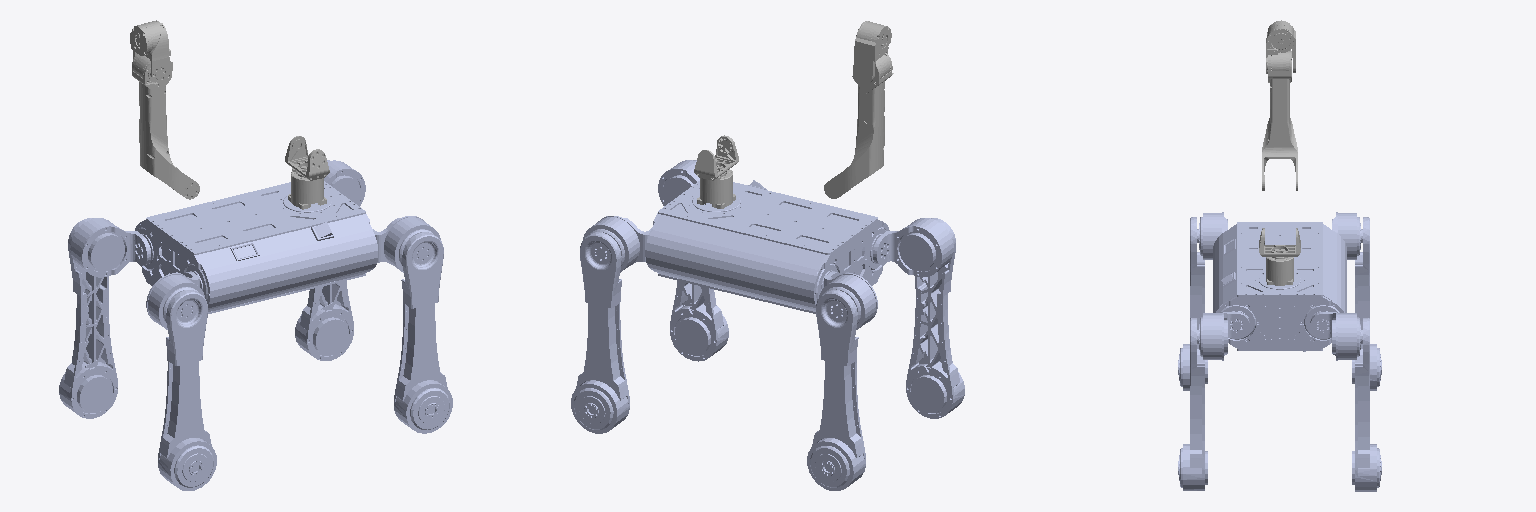
--- What the picture shows (computed from the rendered views, not written in the file) ---
Views: 3 orthographic renders of the robot side by side, from view 1: azimuth 30°, elevation 25°; view 2: azimuth 150°, elevation 25°; view 3: azimuth 270°, elevation 25°.
Robot: lion — 23 links, 22 joints (15 revolute, 7 fixed); root link base; default pose: all joints at 0 but 5 set to mid-range because 0 is outside their limits (RF_KFE = -1.75, LF_KFE = -1.75, RH_KFE = -1.75, LH_KFE = -1.75, joint3 = 1.59).
Visible links, largest first — view 1: base, RF_thigh, RH_thigh, LH_thigh, elbow_link, LF_thigh, LH_hip, lower_arm_link, RF_hip, RH_hip, shoulder_link, LF_hip (+1 smaller); view 2: base, LF_thigh, LH_thigh, RH_thigh, elbow_link, RF_thigh, RH_hip, lower_arm_link, LF_hip, LH_hip, shoulder_link, RF_hip (+1 smaller); view 3: base, LF_thigh, RF_thigh, elbow_link, RH_thigh, LH_thigh, RF_hip, LF_hip, lower_arm_link, RH_hip, LH_hip, arm_base_link (+1 smaller).
Link boxes in pixels (box(x1,y1,x2,y2)): base: box(135, 181, 377, 313); RF_thigh: box(394, 232, 452, 433); RH_thigh: box(158, 290, 216, 490); LH_thigh: box(59, 218, 117, 418); elbow_link: box(132, 54, 199, 199); LF_thigh: box(295, 160, 353, 360); LH_hip: box(70, 218, 150, 277); lower_arm_link: box(130, 20, 172, 82); RF_hip: box(373, 216, 440, 272); RH_hip: box(146, 271, 204, 329); shoulder_link: box(285, 136, 329, 180); LF_hip: box(324, 160, 365, 206); base: box(645, 180, 889, 313); LF_thigh: box(571, 232, 629, 433); LH_thigh: box(807, 290, 865, 490); RH_thigh: box(906, 218, 964, 418); elbow_link: box(824, 53, 893, 198); RF_thigh: box(670, 160, 728, 361); RH_hip: box(873, 218, 953, 277); lower_arm_link: box(854, 21, 891, 84); LF_hip: box(583, 216, 651, 272); LH_hip: box(819, 271, 877, 329); shoulder_link: box(694, 135, 738, 180); RF_hip: box(658, 160, 699, 205); base: box(1213, 222, 1346, 351); LF_thigh: box(1352, 318, 1381, 491); RF_thigh: box(1178, 318, 1207, 490); elbow_link: box(1262, 50, 1297, 190); RH_thigh: box(1178, 217, 1207, 390); LH_thigh: box(1352, 217, 1381, 390); RF_hip: box(1198, 312, 1249, 360); LF_hip: box(1310, 312, 1361, 360); lower_arm_link: box(1266, 20, 1295, 73); RH_hip: box(1198, 212, 1227, 259); LH_hip: box(1332, 212, 1361, 259); arm_base_link: box(1266, 257, 1293, 285).
Bounding box of the posed robot: 0.593 × 0.424 × 0.8449 m (x, y, z).
13 mesh visuals loaded from 10 distinct referenced files (7 binary STL); not drawn: 9 (reference not matched to a file when rendering).

URDF robot description (lion):
<?xml version="1.0" ?>
<!-- =================================================================================== -->
<!-- |    This document was autogenerated by xacro from robot.xacro                    | -->
<!-- |    EDITING THIS FILE BY HAND IS NOT RECOMMENDED                                 | -->
<!-- =================================================================================== -->
<robot name="lion">
  <!-- <xacro:arg name="robot_type" default="lion"/> -->
  <!-- ros_control plugin -->
  <gazebo>
    <plugin filename="liblegged_hw_sim.so" name="gazebo_ros_control">
      <robotNamespace>/</robotNamespace>
      <robotParam>legged_robot_description</robotParam>
      <robotSimType>legged_gazebo/QuadHWSim</robotSimType>
      <!-- <controlPeriod>0.002</controlPeriod> -->
    </plugin>
  </gazebo>
  <gazebo>
    <plugin filename="libgazebo_ros_p3d.so" name="p3d_base_controller">
      <alwaysOn>true</alwaysOn>
      <updateRate>1000.0</updateRate>
      <bodyName>base</bodyName>
      <topicName>ground_truth/state</topicName>
      <gaussianNoise>0</gaussianNoise>
      <frameName>world</frameName>
      <xyzOffsets>0 0 0</xyzOffsets>
      <rpyOffsets>0 0 0</rpyOffsets>
    </plugin>
  </gazebo>
  <gazebo reference="base">
    <maxVel>100.</maxVel>
    <kp>10000.</kp>
    <kd>0.</kd>
  </gazebo>
  <gazebo reference="stick_link">
    <mu1>0.2</mu1>
    <mu2>0.2</mu2>
    <material>Gazebo/White</material>
  </gazebo>
  <!-- LF leg -->
  <gazebo reference="LF_hip">
    <mu1>0.2</mu1>
    <mu2>0.2</mu2>
    <material>Gazebo/DarkGrey</material>
  </gazebo>
  <gazebo reference="LF_thigh">
    <mu1>0.2</mu1>
    <mu2>0.2</mu2>
    <self_collide>1</self_collide>
    <material>Gazebo/DarkGrey</material>
    <kp value="1000000.0"/>
    <kd value="1.0"/>
  </gazebo>
  <gazebo reference="LF_calf">
    <mu1>0.2</mu1>
    <mu2>0.2</mu2>
    <self_collide>1</self_collide>
  </gazebo>
  <gazebo reference="LF_FOOT">
    <mu1>0.9</mu1>
    <mu2>0.9</mu2>
    <self_collide>1</self_collide>
    <material>Gazebo/DarkGrey</material>
    <kp value="1000000.0"/>
    <kd value="100.0"/>
  </gazebo>
  <!-- RF leg -->
  <gazebo reference="RF_hip">
    <mu1>0.2</mu1>
    <mu2>0.2</mu2>
    <material>Gazebo/DarkGrey</material>
  </gazebo>
  <gazebo reference="RF_thigh">
    <mu1>0.2</mu1>
    <mu2>0.2</mu2>
    <self_collide>1</self_collide>
    <material>Gazebo/DarkGrey</material>
    <kp value="1000000.0"/>
    <kd value="1.0"/>
  </gazebo>
  <gazebo reference="RF_calf">
    <mu1>0.2</mu1>
    <mu2>0.2</mu2>
    <self_collide>1</self_collide>
  </gazebo>
  <gazebo reference="RF_FOOT">
    <mu1>0.9</mu1>
    <mu2>0.9</mu2>
    <self_collide>1</self_collide>
    <material>Gazebo/DarkGrey</material>
    <kp value="1000000.0"/>
    <kd value="1.0"/>
  </gazebo>
  <!-- LH leg -->
  <gazebo reference="LH_hip">
    <mu1>0.2</mu1>
    <mu2>0.2</mu2>
    <material>Gazebo/DarkGrey</material>
  </gazebo>
  <gazebo reference="LH_thigh">
    <mu1>0.2</mu1>
    <mu2>0.2</mu2>
    <self_collide>1</self_collide>
    <material>Gazebo/DarkGrey</material>
    <kp value="1000000.0"/>
    <kd value="1.0"/>
  </gazebo>
  <gazebo reference="LH_calf">
    <mu1>0.2</mu1>
    <mu2>0.2</mu2>
    <self_collide>1</self_collide>
  </gazebo>
  <gazebo reference="LH_FOOT">
    <mu1>0.9</mu1>
    <mu2>0.9</mu2>
    <self_collide>1</self_collide>
    <material>Gazebo/DarkGrey</material>
    <kp value="1000000.0"/>
    <kd value="1.0"/>
  </gazebo>
  <!-- RH leg -->
  <gazebo reference="RH_hip">
    <mu1>0.2</mu1>
    <mu2>0.2</mu2>
    <material>Gazebo/DarkGrey</material>
  </gazebo>
  <gazebo reference="RH_thigh">
    <mu1>0.2</mu1>
    <mu2>0.2</mu2>
    <self_collide>1</self_collide>
    <material>Gazebo/DarkGrey</material>
    <kp value="1000000.0"/>
    <kd value="1.0"/>
  </gazebo>
  <gazebo reference="RH_calf">
    <mu1>0.2</mu1>
    <mu2>0.2</mu2>
    <self_collide>1</self_collide>
  </gazebo>
  <gazebo reference="RH_FOOT">
    <mu1>0.9</mu1>
    <mu2>0.9</mu2>
    <self_collide>1</self_collide>
    <material>Gazebo/DarkGrey</material>
    <kp value="1000000.0"/>
    <kd value="1.0"/>
  </gazebo>
  <!-- <xacro:include filename="$(find lion_arx3_description)/urdf/$(arg robot_type)/const.xacro"/> -->
  <!--Quadruped
  Model*******************************************************************************************-->
  <link name="base">
    <inertial>
      <origin rpy="0 0 0" xyz="-0.000638750070817345 -0.00672058356158241 -0.00556735378698432"/>
      <mass value="8.286"/>
      <inertia ixx="0.056529" ixy="-0.001107" ixz="-3.045E-05" iyy="0.14156" iyz="-0.0011531" izz="0.17939"/>
    </inertial>
    <visual>
      <origin rpy="0 0 0" xyz="0 0 0"/>
      <geometry>
        <mesh filename="package://lion_arx3_description/meshes/base_link.STL"/>
      </geometry>
      <material name="">
        <color rgba="0.792156862745098 0.819607843137255 0.933333333333333 1"/>
      </material>
    </visual>
    <collision>
      <origin rpy="0 0 0" xyz="0 0 0"/>
      <geometry>
        <box size="0.35 0.24 0.14"/>
      </geometry>
    </collision>
  </link>
  <link name="RF_hip">
    <inertial>
      <origin rpy="0 0 0" xyz="-0.0050797 -0.047183 4.172E-05"/>
      <mass value="1.095"/>
      <inertia ixx="0.0010035" ixy="-0.00021789" ixz="1.433E-06" iyy="0.0014762" iyz="1.005E-06" izz="0.0012507"/>
    </inertial>
    <visual>
      <origin rpy="0 0 0" xyz="0 0 0"/>
      <geometry>
        <mesh filename="package://lion_arx3_description/meshes/hip_Link.STL"/>
      </geometry>
      <material name="">
        <color rgba="0.79216 0.81961 0.93333 1"/>
      </material>
    </visual>
    <collision>
      <origin rpy="1.5707963267948966 0 0" xyz="0.0 -0.05 0"/>
      <geometry>
        <!-- <box size="0.05 0.03 0.3"/> -->
        <cylinder length="0.06" radius="0.05"/>
      </geometry>
    </collision>
  </link>
  <joint name="RF_HAA" type="revolute">
    <origin rpy="0.0 0.0 0 " xyz="0.2467 -0.09 0"/>
    <parent link="base"/>
    <child link="RF_hip"/>
    <axis xyz="1 0 0"/>
    <limit effort="55" lower="-1.0" upper="1.0" velocity="30"/>
  </joint>
  <link name="RF_thigh">
    <inertial>
      '' 
      <origin rpy="0 0 0" xyz="-2.7705E-05 -0.089684 -0.23198"/>
      <mass value="1.556"/>
      <inertia ixx="0.015631" ixy="-8.61E-07" ixz="-6.078E-06" iyy="0.016183" iyz="0.0004689" izz="0.0011163"/>
    </inertial>
    <visual>
      <origin rpy="0 0 0" xyz="0 0 0"/>
      <geometry>
        <mesh filename="package://lion_arx3_description/meshes/thigh_Link.STL"/>
      </geometry>
      <material name="">
        <color rgba="0.79216 0.81961 0.93333 1"/>
      </material>
    </visual>
    <collision>
      <origin rpy="1.5707963267948966 0 0" xyz="0 -0.09 -0.3"/>
      <geometry>
        <!-- <box size="0.05 0.03 0.3"/> -->
        <cylinder length="0.06" radius="0.05"/>
      </geometry>
    </collision>
  </link>
  <joint name="RF_HFE" type="revolute">
    <origin rpy="0 0.0 0" xyz="0 0 0"/>
    <parent link="RF_hip"/>
    <child link="RF_thigh"/>
    <axis xyz="0 1 0"/>
    <limit effort="55" lower="-3.0" upper="3.0" velocity="30"/>
  </joint>
  <link name="RF_calf">
    <inertial>
      <origin rpy="0 0 0" xyz="2.05E-06 -0.12517 -0.080832"/>
      <mass value="0.233"/>
      <inertia ixx="0.0033053" ixy="-3.64E-07" ixz="4.028E-06" iyy="0.0033126" iyz="-0.00013194" izz="4.3236E-05"/>
    </inertial>
    <visual>
      <origin rpy="0 0 0" xyz="0 0 0"/>
      <geometry>
        <mesh filename="package://lion_arx3_description/meshes/shank_Link.STL"/>
      </geometry>
      <material name="">
        <color rgba="0.79216 0.81961 0.93333 1"/>
      </material>
    </visual>
    <collision>
      <origin rpy="0 0 0" xyz="0 -0.119 -0.15"/>
      <geometry>
        <cylinder length="0.2" radius="0.01"/>
      </geometry>
    </collision>
  </link>
  <joint name="RF_KFE" type="revolute">
    <origin rpy="0 0 0" xyz="0 0 -0.3"/>
    <parent link="RF_thigh"/>
    <child link="RF_calf"/>
    <axis xyz="0 1 0"/>
    <limit effort="55" lower="-3.0" upper="-0.5" velocity="30"/>
  </joint>
  <link name="RF_FOOT">
    <contact>
      <friction_anchor/>
      <stiffness value="30000.0"/>
      <damping value="1000.0"/>
      <spinning_friction value="0.3"/>
      <lateral_friction value="3.0"/>
    </contact>
    <inertial>
      <origin rpy="0 0 0" xyz="0.0002617 0.00017365 0.0085579"/>
      <!-- <mass value="0.03946"/> -->
      <mass value="0.01"/>
      <!-- <inertia ixx="1.4527E-05" ixy="-8.5021E-08" ixz="-4.0103E-07" iyy="1.4601E-05"
      iyz="-2.6548E-07" izz="6.2338E-06"/> -->
      <inertia ixx="0.001983" ixy="0.000245" ixz="0.000013" iyy="0.002103" iyz="0.0000015" izz="0.000408"/>
    </inertial>
    <visual>
      <origin rpy="0 0 0" xyz="0 0 0"/>
      <geometry>
        <mesh filename="package://lion_arx3_description/meshes/foot_Link.STL"/>
      </geometry>
      <material name="">
        <color rgba="0.79216 0.81961 0.93333 1"/>
      </material>
    </visual>
    <collision>
      <origin rpy="0 0 0" xyz="0 0 0.002"/>
      <geometry>
        <sphere radius="0.02"/>
      </geometry>
    </collision>
  </link>
  <joint name="JointFR_foot" type="fixed">
    <origin rpy="0 0 0" xyz="0 -0.119 -0.3105"/>
    <parent link="RF_calf"/>
    <child link="RF_FOOT"/>
    <axis xyz="0 0 1"/>
  </joint>
  <link name="LF_hip">
    <inertial>
      <origin rpy="0 0 0" xyz="-0.0050797 -0.047183 4.172E-05"/>
      <!-- <mass value="0.39498"/> -->
      <mass value="1.095"/>
      <inertia ixx="0.0010035" ixy="-0.00021789" ixz="1.433E-06" iyy="0.0014762" iyz="1.005E-06" izz="0.0012507"/>
    </inertial>
    <visual>
      <origin rpy="0 0 0" xyz="0 0 0"/>
      <geometry>
        <mesh filename="package://lion_arx3_description/meshes/hip_Link.STL"/>
      </geometry>
      <material name="">
        <color rgba="0.79216 0.81961 0.93333 1"/>
      </material>
    </visual>
    <collision>
      <origin rpy="1.5707963267948966 0 0" xyz="0.0 -0.05 0"/>
      <geometry>
        <!-- <box size="0.05 0.03 0.3"/> -->
        <cylinder length="0.06" radius="0.05"/>
      </geometry>
    </collision>
  </link>
  <joint name="LF_HAA" type="revolute">
    <origin rpy="3.141592653589793 0.0 0 " xyz="0.2467 0.09 0"/>
    <parent link="base"/>
    <child link="LF_hip"/>
    <axis xyz="1 0 0"/>
    <limit effort="55" lower="-1.0" upper="1.0" velocity="30"/>
  </joint>
  <link name="LF_thigh">
    <inertial>
      <origin rpy="0 0 0" xyz="-2.7705E-05 -0.089684 -0.23198"/>
      <mass value="1.556"/>
      <inertia ixx="0.015631" ixy="-8.61E-07" ixz="-6.078E-06" iyy="0.016183" iyz="0.0004689" izz="0.0011163"/>
    </inertial>
    <visual>
      <origin rpy="0 0 0" xyz="0 0 0"/>
      <geometry>
        <mesh filename="package://lion_arx3_description/meshes/thigh_Link.STL"/>
      </geometry>
      <material name="">
        <color rgba="0.79216 0.81961 0.93333 1"/>
      </material>
    </visual>
    <collision>
      <origin rpy="1.5707963267948966 0 0" xyz="0 -0.09 -0.3"/>
      <geometry>
        <!-- <box size="0.05 0.03 0.3"/> -->
        <cylinder length="0.06" radius="0.05"/>
      </geometry>
    </collision>
  </link>
  <joint name="LF_HFE" type="revolute">
    <origin rpy="0 3.141592653589793 0" xyz="0 0 0"/>
    <parent link="LF_hip"/>
    <child link="LF_thigh"/>
    <axis xyz="0 -1 0"/>
    <limit effort="55" lower="-3.0" upper="3.0" velocity="30"/>
  </joint>
  <link name="LF_calf">
    <inertial>
      <origin rpy="0 0 0" xyz="2.05E-06 -0.12517 -0.080832"/>
      <mass value="0.233"/>
      <inertia ixx="0.0033053" ixy="-3.64E-07" ixz="4.028E-06" iyy="0.0033126" iyz="-0.00013194" izz="4.3236E-05"/>
    </inertial>
    <visual>
      <origin rpy="0 0 0" xyz="0 0 0"/>
      <geometry>
        <mesh filename="package://lion_arx3_description/meshes/shank_Link.STL"/>
      </geometry>
      <material name="">
        <color rgba="0.79216 0.81961 0.93333 1"/>
      </material>
    </visual>
    <collision>
      <origin rpy="0 0 0" xyz="0 -0.119 -0.15"/>
      <geometry>
        <cylinder length="0.2" radius="0.01"/>
      </geometry>
    </collision>
  </link>
  <joint name="LF_KFE" type="revolute">
    <origin rpy="0 0 0" xyz="0 0 -0.3"/>
    <parent link="LF_thigh"/>
    <child link="LF_calf"/>
    <axis xyz="0 -1 0"/>
    <limit effort="55" lower="-3.0" upper="-0.5" velocity="30"/>
  </joint>
  <link name="LF_FOOT">
    <contact>
      <friction_anchor/>
      <stiffness value="30000.0"/>
      <damping value="1000.0"/>
      <spinning_friction value="0.3"/>
      <lateral_friction value="3.0"/>
    </contact>
    <inertial>
      <origin rpy="0 0 0" xyz="0.0002617 0.00017365 0.0085579"/>
      <!-- <mass value="0.03946"/> -->
      <mass value="0.01"/>
      <!-- <inertia ixx="1.4527E-05" ixy="-8.5021E-08" ixz="-4.0103E-07" iyy="1.4601E-05"
      iyz="-2.6548E-07" izz="6.2338E-06"/> -->
      <inertia ixx="0.001983" ixy="0.000245" ixz="0.000013" iyy="0.002103" iyz="0.0000015" izz="0.000408"/>
    </inertial>
    <visual>
      <origin rpy="0 0 0" xyz="0 0 0"/>
      <geometry>
        <mesh filename="package://lion_arx3_description/meshes/foot_Link.STL"/>
      </geometry>
      <material name="">
        <color rgba="0.79216 0.81961 0.93333 1"/>
      </material>
    </visual>
    <collision>
      <origin rpy="0 0 0" xyz="0 0 0.002"/>
      <geometry>
        <sphere radius="0.02"/>
      </geometry>
    </collision>
  </link>
  <joint name="JointFL_foot" type="fixed">
    <origin rpy="0 0 0" xyz="0 -0.119 -0.3105"/>
    <parent link="LF_calf"/>
    <child link="LF_FOOT"/>
    <axis xyz="0 0 1"/>
  </joint>
  <link name="RH_hip">
    <inertial>
      <origin rpy="0 0 0" xyz="-0.0050797 -0.047183 4.172E-05"/>
      <mass value="1.095"/>
      <inertia ixx="0.0010035" ixy="-0.00021789" ixz="1.433E-06" iyy="0.0014762" iyz="1.005E-06" izz="0.0012507"/>
    </inertial>
    <visual>
      <origin rpy="0 0 0" xyz="0 0 0"/>
      <geometry>
        <mesh filename="package://lion_arx3_description/meshes/hip_Link.STL"/>
      </geometry>
      <material name="">
        <color rgba="0.79216 0.81961 0.93333 1"/>
      </material>
    </visual>
    <collision>
      <origin rpy="1.5707963267948966 0 0" xyz="0.0 -0.05 0"/>
      <geometry>
        <!-- <box size="0.05 0.03 0.3"/> -->
        <cylinder length="0.06" radius="0.05"/>
      </geometry>
    </collision>
  </link>
  <joint name="RH_HAA" type="revolute">
    <origin rpy="0.0 3.141592653589793 0 " xyz="-0.2467 -0.09 0"/>
    <parent link="base"/>
    <child link="RH_hip"/>
    <axis xyz="-1 0 0"/>
    <limit effort="55" lower="-1.0" upper="1.0" velocity="30"/>
  </joint>
  <link name="RH_thigh">
    <inertial>
      <origin rpy="0 0 0" xyz="-2.7705E-05 -0.089684 -0.23198"/>
      <mass value="1.556"/>
      <inertia ixx="0.015631" ixy="-8.61E-07" ixz="-6.078E-06" iyy="0.016183" iyz="0.0004689" izz="0.0011163"/>
    </inertial>
    <visual>
      <origin rpy="0 0 0" xyz="0 0 0"/>
      <geometry>
        <mesh filename="package://lion_arx3_description/meshes/thigh_Link.STL"/>
      </geometry>
      <material name="">
        <color rgba="0.79216 0.81961 0.93333 1"/>
      </material>
    </visual>
    <collision>
      <origin rpy="1.5707963267948966 0 0" xyz="0 -0.09 -0.3"/>
      <geometry>
        <!-- <box size="0.05 0.03 0.3"/> -->
        <cylinder length="0.06" radius="0.05"/>
      </geometry>
    </collision>
  </link>
  <joint name="RH_HFE" type="revolute">
    <origin rpy="0 3.141592653589793 0" xyz="0 0 0"/>
    <parent link="RH_hip"/>
    <child link="RH_thigh"/>
    <axis xyz="0 1 0"/>
    <limit effort="55" lower="-3.0" upper="3.0" velocity="30"/>
  </joint>
  <link name="RH_calf">
    <inertial>
      <origin rpy="0 0 0" xyz="2.05E-06 -0.12517 -0.080832"/>
      <mass value="0.233"/>
      <inertia ixx="0.0033053" ixy="-3.64E-07" ixz="4.028E-06" iyy="0.0033126" iyz="-0.00013194" izz="4.3236E-05"/>
    </inertial>
    <visual>
      <origin rpy="0 0 0" xyz="0 0 0"/>
      <geometry>
        <mesh filename="package://lion_arx3_description/meshes/shank_Link.STL"/>
      </geometry>
      <material name="">
        <color rgba="0.79216 0.81961 0.93333 1"/>
      </material>
    </visual>
    <collision>
      <origin rpy="0 0 0" xyz="0 -0.119 -0.15"/>
      <geometry>
        <cylinder length="0.2" radius="0.01"/>
      </geometry>
    </collision>
  </link>
  <joint name="RH_KFE" type="revolute">
    <origin rpy="0 0 0" xyz="0 0 -0.3"/>
    <parent link="RH_thigh"/>
    <child link="RH_calf"/>
    <axis xyz="0 1 0"/>
    <limit effort="55" lower="-3.0" upper="-0.5" velocity="30"/>
  </joint>
  <link name="RH_FOOT">
    <contact>
      <friction_anchor/>
      <stiffness value="30000.0"/>
      <damping value="1000.0"/>
      <spinning_friction value="0.3"/>
      <lateral_friction value="3.0"/>
    </contact>
    <inertial>
      <origin rpy="0 0 0" xyz="0.0002617 0.00017365 0.0085579"/>
      <!-- <mass value="0.03946"/> -->
      <mass value="0.01"/>
      <!-- <inertia ixx="1.4527E-05" ixy="-8.5021E-08" ixz="-4.0103E-07" iyy="1.4601E-05"
      iyz="-2.6548E-07" izz="6.2338E-06"/> -->
      <inertia ixx="0.001983" ixy="0.000245" ixz="0.000013" iyy="0.002103" iyz="0.0000015" izz="0.000408"/>
    </inertial>
    <visual>
      <origin rpy="0 0 0" xyz="0 0 0"/>
      <geometry>
        <mesh filename="package://lion_arx3_description/meshes/foot_Link.STL"/>
      </geometry>
      <material name="">
        <color rgba="0.79216 0.81961 0.93333 1"/>
      </material>
    </visual>
    <collision>
      <origin rpy="0 0 0" xyz="0 0 0.002"/>
      <geometry>
        <sphere radius="0.02"/>
      </geometry>
    </collision>
  </link>
  <joint name="JointHR_foot" type="fixed">
    <origin rpy="0 0 0" xyz="0 -0.119 -0.3105"/>
    <parent link="RH_calf"/>
    <child link="RH_FOOT"/>
    <axis xyz="0 0 1"/>
  </joint>
  <link name="LH_hip">
    <inertial>
      <origin rpy="0 0 0" xyz="-0.0050797 -0.047183 4.172E-05"/>
      <mass value="1.095"/>
      <inertia ixx="0.0010035" ixy="-0.00021789" ixz="1.433E-06" iyy="0.0014762" iyz="1.005E-06" izz="0.0012507"/>
    </inertial>
    <visual>
      <origin rpy="0 0 0" xyz="0 0 0"/>
      <geometry>
        <mesh filename="package://lion_arx3_description/meshes/hip_Link.STL"/>
      </geometry>
      <material name="">
        <color rgba="0.79216 0.81961 0.93333 1"/>
      </material>
    </visual>
    <collision>
      <origin rpy="1.5707963267948966 0 0" xyz="0.0 -0.05 0"/>
      <geometry>
        <!-- <box size="0.05 0.03 0.3"/> -->
        <cylinder length="0.06" radius="0.05"/>
      </geometry>
    </collision>
  </link>
  <joint name="LH_HAA" type="revolute">
    <origin rpy="3.141592653589793 3.141592653589793 0 " xyz="-0.2467 0.09 0"/>
    <parent link="base"/>
    <child link="LH_hip"/>
    <axis xyz="-1 0 0"/>
    <limit effort="55" lower="-1.0" upper="1.0" velocity="30"/>
  </joint>
  <link name="LH_thigh">
    <inertial>
      <origin rpy="0 0 0" xyz="-2.7705E-05 -0.089684 -0.23198"/>
      <mass value="1.556"/>
      <inertia ixx="0.015631" ixy="-8.61E-07" ixz="-6.078E-06" iyy="0.016183" iyz="0.0004689" izz="0.0011163"/>
    </inertial>
    <visual>
      <origin rpy="0 0 0" xyz="0 0 0"/>
      <geometry>
        <mesh filename="package://lion_arx3_description/meshes/thigh_Link.STL"/>
      </geometry>
      <material name="">
        <color rgba="0.79216 0.81961 0.93333 1"/>
      </material>
    </visual>
    <collision>
      <origin rpy="1.5707963267948966 0 0" xyz="0 -0.09 -0.3"/>
      <geometry>
        <!-- <box size="0.05 0.03 0.3"/> -->
        <cylinder length="0.06" radius="0.05"/>
      </geometry>
    </collision>
  </link>
  <joint name="LH_HFE" type="revolute">
    <origin rpy="0 6.283185307179586 0" xyz="0 0 0"/>
    <parent link="LH_hip"/>
    <child link="LH_thigh"/>
    <axis xyz="0 -1 0"/>
    <limit effort="55" lower="-3.0" upper="3.0" velocity="30"/>
  </joint>
  <link name="LH_calf">
    <inertial>
      <origin rpy="0 0 0" xyz="2.05E-06 -0.12517 -0.080832"/>
      <mass value="0.233"/>
      <inertia ixx="0.0033053" ixy="-3.64E-07" ixz="4.028E-06" iyy="0.0033126" iyz="-0.00013194" izz="4.3236E-05"/>
    </inertial>
    <visual>
      <origin rpy="0 0 0" xyz="0 0 0"/>
      <geometry>
        <mesh filename="package://lion_arx3_description/meshes/shank_Link.STL"/>
      </geometry>
      <material name="">
        <color rgba="0.79216 0.81961 0.93333 1"/>
      </material>
    </visual>
    <collision>
      <origin rpy="0 0 0" xyz="0 -0.119 -0.15"/>
      <geometry>
        <cylinder length="0.2" radius="0.01"/>
      </geometry>
    </collision>
  </link>
  <joint name="LH_KFE" type="revolute">
    <origin rpy="0 0 0" xyz="0 0 -0.3"/>
    <parent link="LH_thigh"/>
    <child link="LH_calf"/>
    <axis xyz="0 -1 0"/>
    <limit effort="55" lower="-3.0" upper="-0.5" velocity="30"/>
  </joint>
  <link name="LH_FOOT">
    <contact>
      <friction_anchor/>
      <stiffness value="30000.0"/>
      <damping value="1000.0"/>
      <spinning_friction value="0.3"/>
      <lateral_friction value="3.0"/>
    </contact>
    <inertial>
      <origin rpy="0 0 0" xyz="0.0002617 0.00017365 0.0085579"/>
      <!-- <mass value="0.03946"/> -->
      <mass value="0.01"/>
      <!-- <inertia ixx="1.4527E-05" ixy="-8.5021E-08" ixz="-4.0103E-07" iyy="1.4601E-05"
      iyz="-2.6548E-07" izz="6.2338E-06"/> -->
      <inertia ixx="0.001983" ixy="0.000245" ixz="0.000013" iyy="0.002103" iyz="0.0000015" izz="0.000408"/>
    </inertial>
    <visual>
      <origin rpy="0 0 0" xyz="0 0 0"/>
      <geometry>
        <mesh filename="package://lion_arx3_description/meshes/foot_Link.STL"/>
      </geometry>
      <material name="">
        <color rgba="0.79216 0.81961 0.93333 1"/>
      </material>
    </visual>
    <collision>
      <origin rpy="0 0 0" xyz="0 0 0.002"/>
      <geometry>
        <sphere radius="0.02"/>
      </geometry>
    </collision>
  </link>
  <joint name="JointHL_foot" type="fixed">
    <origin rpy="0 0 0" xyz="0 -0.119 -0.3105"/>
    <parent link="LH_calf"/>
    <child link="LH_FOOT"/>
    <axis xyz="0 0 1"/>
  </joint>
  <!-- Arm Model
  ********************************************************************************************************  -->
  <link name="arm_base_link">
    <inertial>
      <origin rpy="0 0 0" xyz="-2.9956E-05 3.0541E-05 0.027289"/>
      <mass value="0.44061"/>
      <inertia ixx="0.00017" ixy="0.00000" ixz="0.00000" iyy="0.00018" iyz="0.00000" izz="0.00016"/>
    </inertial>
    <visual>
      <origin rpy="0 0 0" xyz="0 0 0"/>
      <geometry>
        <mesh filename="package://lion_arx3_description/meshes/arm_base_link.STL"/>
      </geometry>
      <material name="">
        <color rgba="0.75294 0.75294 0.75294 1"/>
      </material>
    </visual>
    <collision>
      <origin rpy="0 0 0" xyz="0 0.0 0.03"/>
      <geometry>
        <!-- <box size="0.05 0.03 0.3"/> -->
        <cylinder length="0.05" radius="0.03"/>
      </geometry>
    </collision>
  </link>
  <joint name="arm_fix" type="fixed">
    <origin rpy="0 0 0" xyz="0.1075 0 0.0635"/>
    <parent link="base"/>
    <child link="arm_base_link"/>
  </joint>
  <link name="shoulder_link">
    <inertial>
      <origin rpy="0 0 0" xyz="-0.00012207 -6.5868E-06 0.016529"/>
      <mass value="0.078442"/>
      <inertia ixx="0.00009" ixy="0.00000" ixz="0.00000" iyy="0.00003" iyz="0.00000" izz="0.00009"/>
    </inertial>
    <visual>
      <origin rpy="0 0 0" xyz="0 0 0"/>
      <geometry>
        <mesh filename="package://lion_arx3_description/meshes/link1.STL"/>
      </geometry>
      <material name="">
        <color rgba="0.75294 0.75294 0.75294 1"/>
      </material>
    </visual>
    <collision>
      <origin rpy="0 0 0" xyz="0 0 0"/>
      <geometry>
        <cylinder length="0.01" radius="0.03"/>
      </geometry>
    </collision>
  </link>
  <joint name="joint1" type="revolute">
    <origin rpy="0 0 0" xyz="0 0 0.0603"/>
    <parent link="arm_base_link"/>
    <child link="shoulder_link"/>
    <axis xyz="0 0 1"/>
    <limit effort="25.0" lower="-1.57" upper="1.57" velocity="10.0"/>
    <dynamics damping="0.1" friction="0.01"/>
  </joint>
  <link name="upper_arm_link">
    <inertial>
      <origin rpy="0 0 0" xyz="-0.13238 0.0021952 0.00011182"/>
      <mass value="1.073"/>
      <inertia ixx="0.00050" ixy="0.00000" ixz="-0.00004" iyy="0.01596" iyz="0.00000" izz="0.01602"/>
    </inertial>
    <visual>
      <origin rpy="0 0 0" xyz="0 0 0"/>
      <geometry>
        <mesh filename="package://lion_arx3_description/meshes/link2.STL"/>
      </geometry>
      <material name="">
        <color rgba="0.75294 0.75294 0.75294 1"/>
      </material>
    </visual>
    <collision>
      <origin rpy="0 1.5707963267948966 0" xyz="-0.14 0.0 0.0"/>
      <geometry>
        <!-- <box size="0.05 0.03 0.3"/> -->
        <cylinder length="0.28" radius="0.025"/>
      </geometry>
    </collision>
  </link>
  <joint name="joint2" type="revolute">
    <origin rpy="0 0 0" xyz="0 0 0.0402"/>
    <parent link="shoulder_link"/>
    <child link="upper_arm_link"/>
    <axis xyz="0 1 0"/>
    <limit effort="25.0" lower="0." upper="3.14" velocity="10."/>
    <dynamics damping="0.1" friction="0.01"/>
  </joint>
  <link name="elbow_link">
    <inertial>
      <origin rpy="0 0 0" xyz="0.18794 0.0016321 -0.051557"/>
      <mass value="0.50518"/>
      <inertia ixx="0.00037" ixy="-0.00001" ixz="-0.00039" iyy="0.00393" iyz="0.00001" izz="0.00390"/>
    </inertial>
    <visual>
      <origin rpy="0 0 0" xyz="0 0 0"/>
      <geometry>
        <mesh filename="package://lion_arx3_description/meshes/link3.STL"/>
      </geometry>
      <material name="">
        <color rgba="0.75294 0.75294 0.75294 1"/>
      </material>
    </visual>
    <collision>
      <origin rpy="0 1.5707963267948966 0" xyz="0.15 0.0 -0.055"/>
      <geometry>
        <!-- <box size="0.05 0.03 0.3"/> -->
        <cylinder length="0.2" radius="0.02"/>
      </geometry>
    </collision>
  </link>
  <joint name="joint3" type="revolute">
    <origin rpy="-3.1416 0 0" xyz="-0.264 0 0"/>
    <parent link="upper_arm_link"/>
    <child link="elbow_link"/>
    <axis xyz="0 1 0"/>
    <limit effort="25." lower="0.05" upper="3.14" velocity="10."/>
    <dynamics damping="0.1" friction="0.01"/>
  </joint>
  <link name="lower_arm_link">
    <inertial>
      <origin rpy="0 0 0" xyz="0.054496 -0.00085704 0.0020301"/>
      <mass value="0.34332"/>
      <inertia ixx="0.00018" ixy="-0.00001" ixz="0.00000" iyy="0.00022" iyz="0.00001" izz="0.00026"/>
    </inertial>
    <visual>
      <origin rpy="0 0 0" xyz="0 0 0"/>
      <geometry>
        <mesh filename="package://lion_arx_description/meshes/link4.STL"/>
      </geometry>
      <material name="">
        <color rgba="0.75294 0.75294 0.75294 1"/>
      </material>
    </visual>
    <collision>
      <origin rpy="1.5707963267948966 0 0" xyz="0.06 0.0 -0.0"/>
      <geometry>
        <!-- <box size="0.05 0.03 0.3"/> -->
        <cylinder length="0.06" radius="0.025"/>
      </geometry>
    </collision>
  </link>
  <joint name="joint4" type="fixed">
    <origin rpy="0 0 0" xyz="0.245 0 -0.056"/>
    <parent link="elbow_link"/>
    <child link="lower_arm_link"/>
    <axis xyz="0 1 0"/>
  </joint>
  <!-- Imu is fixed to the base link -->
  <joint name="unitree_imu_joint" type="fixed">
    <origin rpy="0. 0. 0." xyz="0. 0. 0."/>
    <parent link="base"/>
    <child link="unitree_imu"/>
  </joint>
  <!-- Imu link -->
  <link name="unitree_imu">
    <inertial>
      <mass value="0.01"/>
      <origin rpy="0 0 0" xyz="0 0 0"/>
      <inertia ixx="0.000001" ixy="0" ixz="0" iyy="0.000001" iyz="0" izz="0.000001"/>
    </inertial>
    <visual>
      <origin rpy="0 0 0" xyz="0 0 0"/>
      <geometry>
        <box size="0.015 0.015 0.004"/>
      </geometry>
    </visual>
    <material name="orange">
      <color rgba="255 108 10 255"/>
    </material>
  </link>
  <gazebo reference="unitree_imu">
    <material>Gazebo/Orange</material>
  </gazebo>
  <gazebo reference="unitree_imu_joint">
    <disableFixedJointLumping>true</disableFixedJointLumping>
  </gazebo>
  <transmission name="RF_HAA_tran">
    <type>transmission_interface/SimpleTransmission</type>
    <joint name="RF_HAA">
      <hardwareInterface>hardware_interface/EffortJointInterface</hardwareInterface>
    </joint>
    <actuator name="RF_HAA_motor">
      <hardwareInterface>hardware_interface/EffortJointInterface</hardwareInterface>
      <mechanicalReduction>1</mechanicalReduction>
    </actuator>
  </transmission>
  <transmission name="RF_HFE_tran">
    <type>transmission_interface/SimpleTransmission</type>
    <joint name="RF_HFE">
      <hardwareInterface>hardware_interface/EffortJointInterface</hardwareInterface>
    </joint>
    <actuator name="RF_HFE_motor">
      <hardwareInterface>hardware_interface/EffortJointInterface</hardwareInterface>
      <mechanicalReduction>1</mechanicalReduction>
    </actuator>
  </transmission>
  <transmission name="RF_KFE_tran">
    <type>transmission_interface/SimpleTransmission</type>
    <joint name="RF_KFE">
      <hardwareInterface>hardware_interface/EffortJointInterface</hardwareInterface>
    </joint>
    <actuator name="RF_KFE_motor">
      <hardwareInterface>hardware_interface/EffortJointInterface</hardwareInterface>
      <mechanicalReduction>1</mechanicalReduction>
    </actuator>
  </transmission>
  <transmission name="LF_HAA_tran">
    <type>transmission_interface/SimpleTransmission</type>
    <joint name="LF_HAA">
      <hardwareInterface>hardware_interface/EffortJointInterface</hardwareInterface>
    </joint>
    <actuator name="LF_HAA_motor">
      <hardwareInterface>hardware_interface/EffortJointInterface</hardwareInterface>
      <mechanicalReduction>1</mechanicalReduction>
    </actuator>
  </transmission>
  <transmission name="LF_HFE_tran">
    <type>transmission_interface/SimpleTransmission</type>
    <joint name="LF_HFE">
      <hardwareInterface>hardware_interface/EffortJointInterface</hardwareInterface>
    </joint>
    <actuator name="LF_HFE_motor">
      <hardwareInterface>hardware_interface/EffortJointInterface</hardwareInterface>
      <mechanicalReduction>1</mechanicalReduction>
    </actuator>
  </transmission>
  <transmission name="LF_KFE_tran">
    <type>transmission_interface/SimpleTransmission</type>
    <joint name="LF_KFE">
      <hardwareInterface>hardware_interface/EffortJointInterface</hardwareInterface>
    </joint>
    <actuator name="LF_KFE_motor">
      <hardwareInterface>hardware_interface/EffortJointInterface</hardwareInterface>
      <mechanicalReduction>1</mechanicalReduction>
    </actuator>
  </transmission>
  <transmission name="RH_HAA_tran">
    <type>transmission_interface/SimpleTransmission</type>
    <joint name="RH_HAA">
      <hardwareInterface>hardware_interface/EffortJointInterface</hardwareInterface>
    </joint>
    <actuator name="RH_HAA_motor">
      <hardwareInterface>hardware_interface/EffortJointInterface</hardwareInterface>
      <mechanicalReduction>1</mechanicalReduction>
    </actuator>
  </transmission>
  <transmission name="RH_HFE_tran">
    <type>transmission_interface/SimpleTransmission</type>
    <joint name="RH_HFE">
      <hardwareInterface>hardware_interface/EffortJointInterface</hardwareInterface>
    </joint>
    <actuator name="RH_HFE_motor">
      <hardwareInterface>hardware_interface/EffortJointInterface</hardwareInterface>
      <mechanicalReduction>1</mechanicalReduction>
    </actuator>
  </transmission>
  <transmission name="RH_KFE_tran">
    <type>transmission_interface/SimpleTransmission</type>
    <joint name="RH_KFE">
      <hardwareInterface>hardware_interface/EffortJointInterface</hardwareInterface>
    </joint>
    <actuator name="RH_KFE_motor">
      <hardwareInterface>hardware_interface/EffortJointInterface</hardwareInterface>
      <mechanicalReduction>1</mechanicalReduction>
    </actuator>
  </transmission>
  <transmission name="LH_HAA_tran">
    <type>transmission_interface/SimpleTransmission</type>
    <joint name="LH_HAA">
      <hardwareInterface>hardware_interface/EffortJointInterface</hardwareInterface>
    </joint>
    <actuator name="LH_HAA_motor">
      <hardwareInterface>hardware_interface/EffortJointInterface</hardwareInterface>
      <mechanicalReduction>1</mechanicalReduction>
    </actuator>
  </transmission>
  <transmission name="LH_HFE_tran">
    <type>transmission_interface/SimpleTransmission</type>
    <joint name="LH_HFE">
      <hardwareInterface>hardware_interface/EffortJointInterface</hardwareInterface>
    </joint>
    <actuator name="LH_HFE_motor">
      <hardwareInterface>hardware_interface/EffortJointInterface</hardwareInterface>
      <mechanicalReduction>1</mechanicalReduction>
    </actuator>
  </transmission>
  <transmission name="LH_KFE_tran">
    <type>transmission_interface/SimpleTransmission</type>
    <joint name="LH_KFE">
      <hardwareInterface>hardware_interface/EffortJointInterface</hardwareInterface>
    </joint>
    <actuator name="LH_KFE_motor">
      <hardwareInterface>hardware_interface/EffortJointInterface</hardwareInterface>
      <mechanicalReduction>1</mechanicalReduction>
    </actuator>
  </transmission>
  <transmission name="joint1_tran">
    <type>transmission_interface/SimpleTransmission</type>
    <joint name="joint1">
      <hardwareInterface>hardware_interface/EffortJointInterface</hardwareInterface>
    </joint>
    <actuator name="joint1_motor">
      <hardwareInterface>hardware_interface/EffortJointInterface</hardwareInterface>
      <mechanicalReduction>1</mechanicalReduction>
    </actuator>
  </transmission>
  <transmission name="joint2_tran">
    <type>transmission_interface/SimpleTransmission</type>
    <joint name="joint2">
      <hardwareInterface>hardware_interface/EffortJointInterface</hardwareInterface>
    </joint>
    <actuator name="joint2_motor">
      <hardwareInterface>hardware_interface/EffortJointInterface</hardwareInterface>
      <mechanicalReduction>1</mechanicalReduction>
    </actuator>
  </transmission>
  <transmission name="joint3_tran">
    <type>transmission_interface/SimpleTransmission</type>
    <joint name="joint3">
      <hardwareInterface>hardware_interface/EffortJointInterface</hardwareInterface>
    </joint>
    <actuator name="joint3_motor">
      <hardwareInterface>hardware_interface/EffortJointInterface</hardwareInterface>
      <mechanicalReduction>1</mechanicalReduction>
    </actuator>
  </transmission>
</robot>
